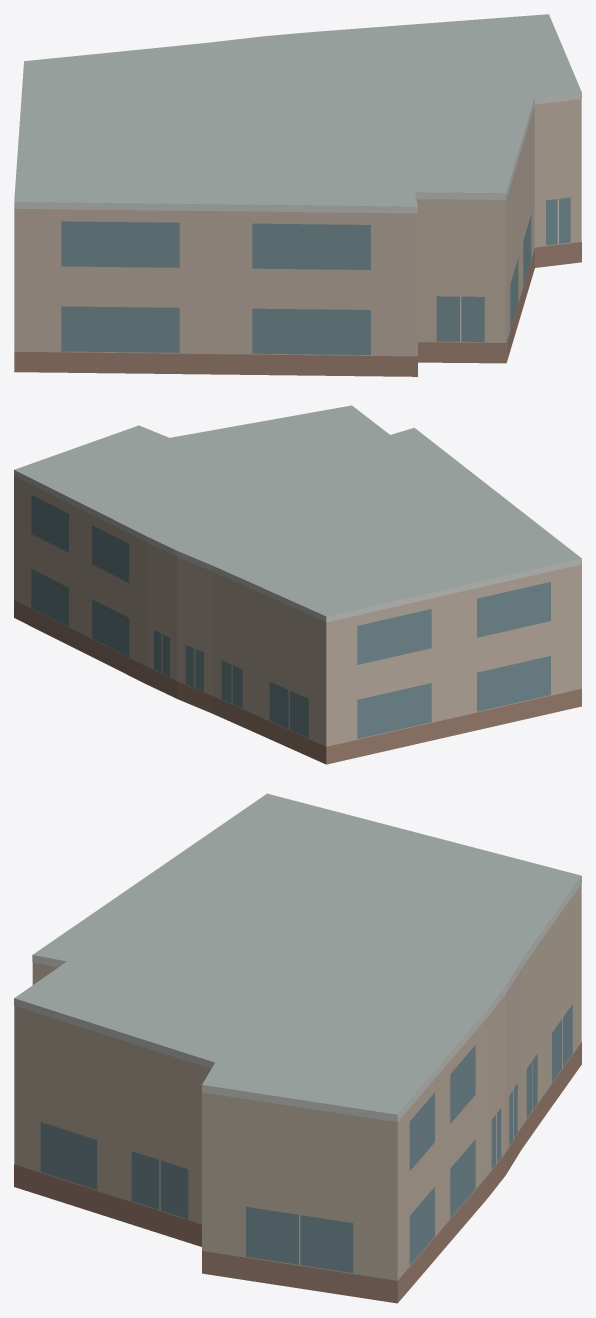
File: survey-upis-33034514.glb
The picture shows the model from 3 angles, top to bottom: view 1: azimuth 30°, elevation 25°; view 2: azimuth 150°, elevation 25°; view 3: azimuth 270°, elevation 25°; orthographic projection. The views are drawn at different scales.
Parts seen in each view (by area): view 1: survey-upis-33034514.tmp; view 2: survey-upis-33034514.tmp; view 3: survey-upis-33034514.tmp.
Boxes of the visible parts, x1,y1,x2,y2 form: survey-upis-33034514.tmp: [14, 14, 581, 376]; survey-upis-33034514.tmp: [14, 405, 581, 764]; survey-upis-33034514.tmp: [14, 793, 581, 1303].
Bounding box in the file's own units: 22.29 × 6.1 × 16.65.
